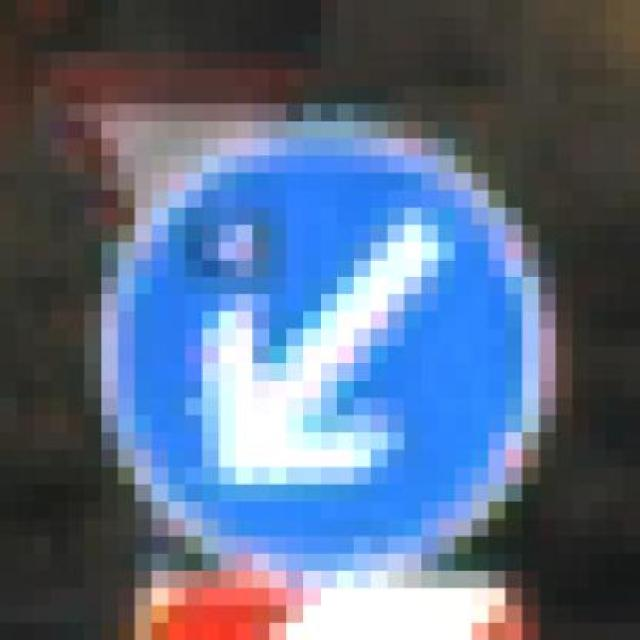Keep-Left: (50, 103, 590, 571)
